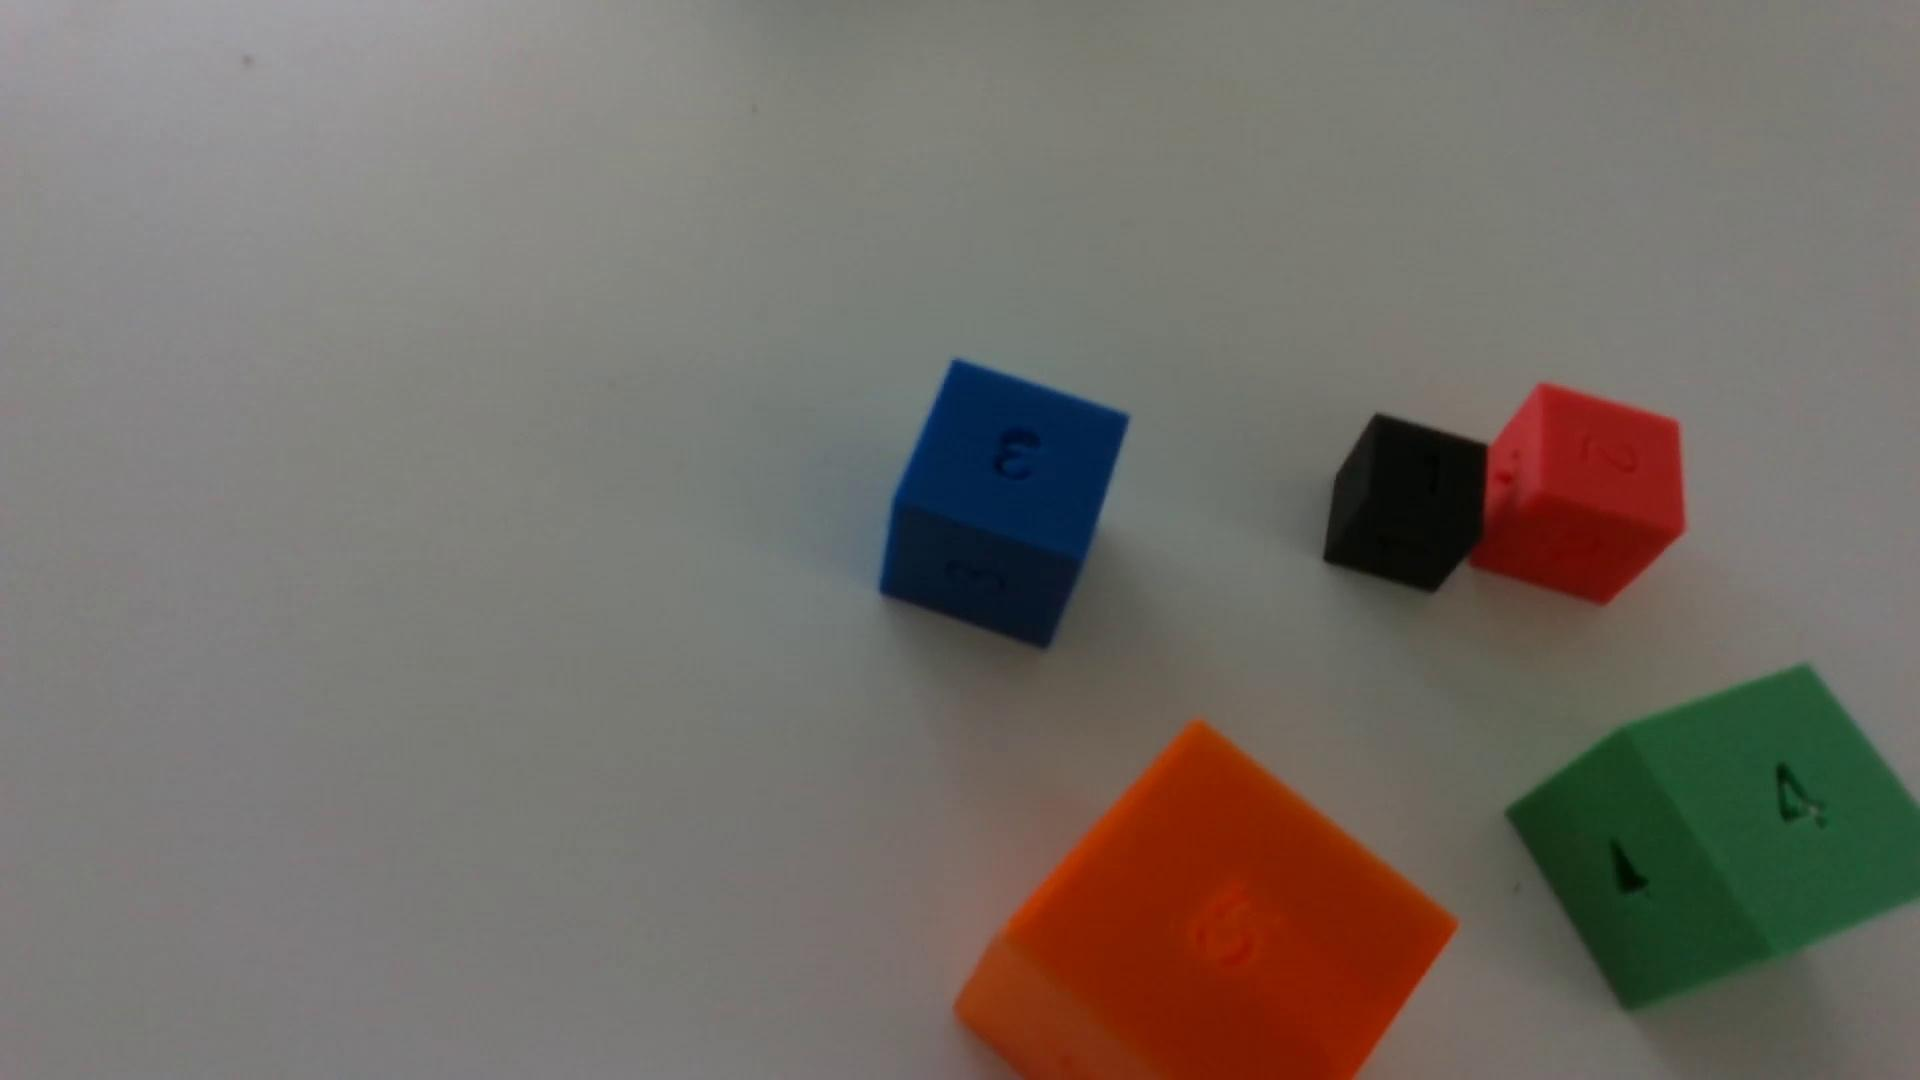black: (1323, 415, 1487, 593)
blue: (880, 361, 1127, 647)
green: (1507, 666, 1920, 1010)
orange: (955, 723, 1456, 1080)
red: (1472, 385, 1685, 605)
